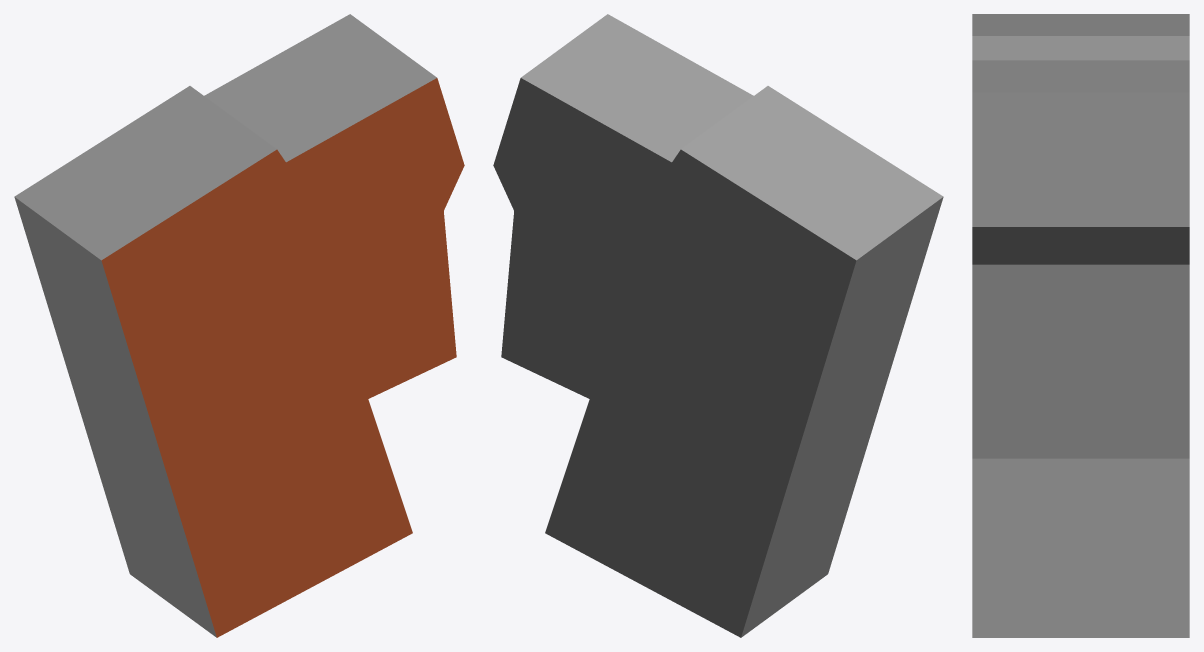
File: construction_4875_assumed_A_Casa_h6m.obj
The picture shows the model from 3 angles, left to right: view 1: azimuth 30°, elevation 25°; view 2: azimuth 150°, elevation 25°; view 3: azimuth 270°, elevation 25°; orthographic projection. The views are drawn at different scales.
Parts seen in each view (by area): view 1: construction_4875_assumed_A_Casa; view 2: construction_4875_assumed_A_Casa; view 3: construction_4875_assumed_A_Casa.
Part boxes in pixels (x1,y1,x2,y2): construction_4875_assumed_A_Casa: (14,14,464,637); construction_4875_assumed_A_Casa: (493,14,943,637); construction_4875_assumed_A_Casa: (972,14,1189,637).
Bounding box in the file's own units: 14.44 × 19.24 × 6.
